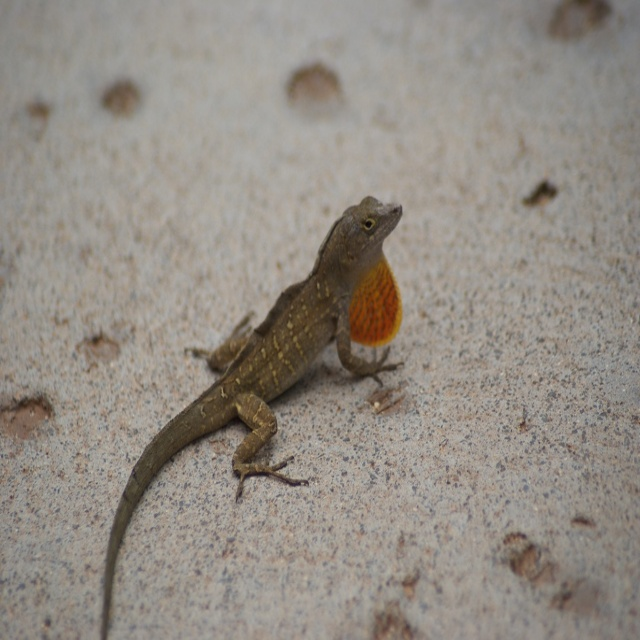Lizard: (102, 195, 404, 638)
